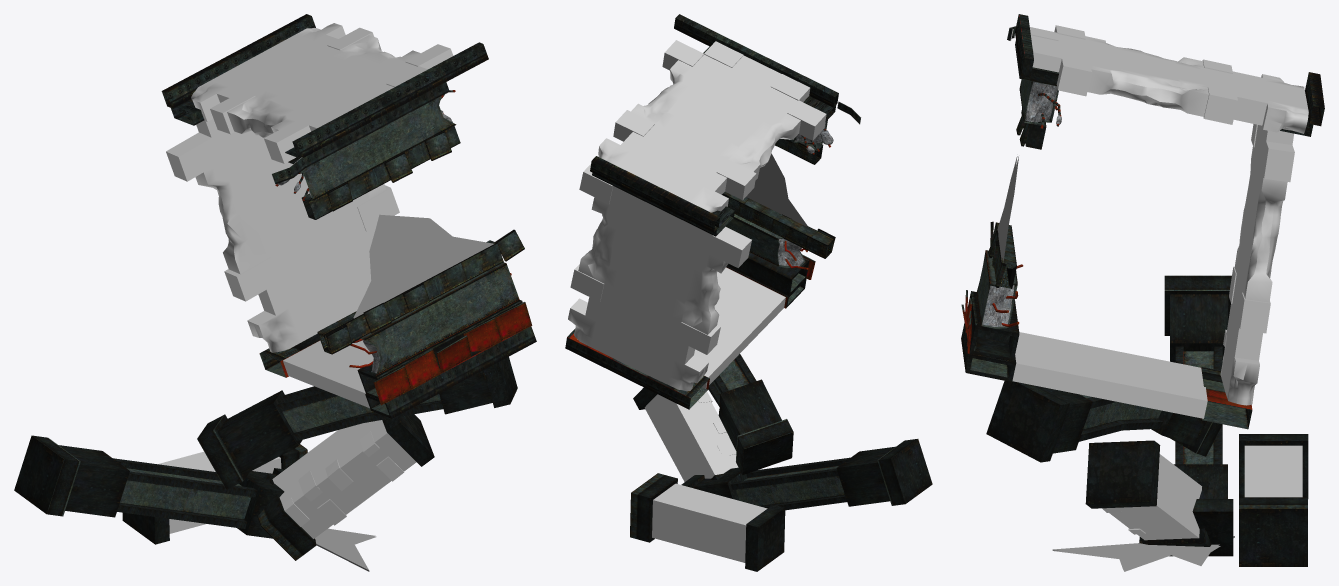
The model's file is Regie@milieuSol.FBX.
3 views of the same model, side by side, from view 1: azimuth 30°, elevation 25°; view 2: azimuth 150°, elevation 25°; view 3: azimuth 270°, elevation 25° (orthographic). The views are drawn at different scales.
Parts seen in each view (by area): view 1: Milieu; view 2: Milieu; view 3: Milieu.
Part boxes in pixels (x1,y1,x2,y2): Milieu: [14, 14, 536, 571]; Milieu: [565, 14, 932, 571]; Milieu: [961, 14, 1324, 571].
Bounding box in the file's own units: 922 × 1128 × 662.
